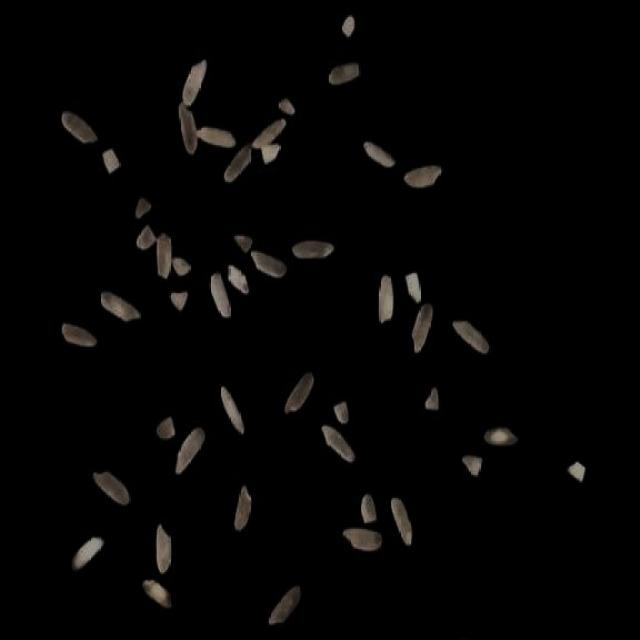Broken: (62, 323, 98, 347), (228, 265, 249, 295), (136, 224, 156, 250), (406, 272, 421, 303), (156, 416, 175, 440), (103, 148, 120, 174), (463, 456, 483, 476), (170, 290, 188, 312), (262, 143, 280, 165), (362, 496, 376, 522), (568, 462, 586, 482), (136, 197, 152, 219), (234, 235, 253, 253), (172, 257, 190, 276), (342, 16, 355, 38), (334, 402, 348, 422), (279, 98, 295, 115), (426, 388, 438, 410)
Full: (176, 427, 206, 474), (93, 471, 130, 506), (453, 320, 489, 355), (269, 585, 301, 624), (100, 291, 140, 322), (284, 372, 314, 413), (62, 110, 98, 144), (322, 426, 355, 463), (221, 386, 245, 434), (182, 59, 207, 105), (72, 536, 104, 570), (391, 498, 413, 546), (252, 118, 286, 149), (178, 102, 198, 154), (224, 146, 252, 183), (412, 304, 433, 353), (209, 273, 231, 318), (251, 251, 286, 277), (404, 165, 442, 188), (342, 529, 382, 550), (196, 126, 236, 147), (364, 142, 395, 168), (156, 524, 172, 574), (142, 580, 170, 608), (235, 485, 252, 531), (378, 275, 394, 323), (292, 241, 334, 259), (157, 232, 172, 279), (330, 63, 360, 85), (484, 428, 517, 446)
